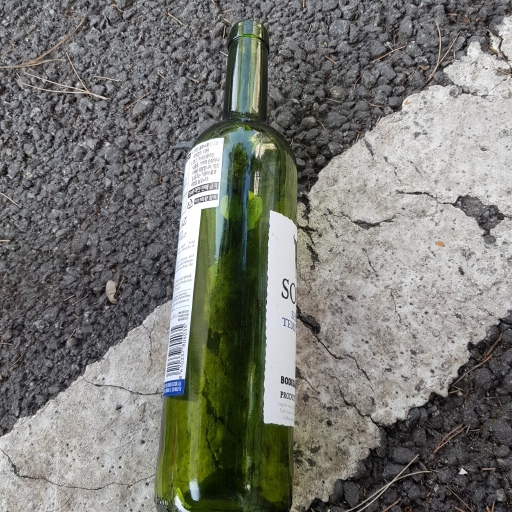Glass_2: (158, 15, 303, 512)
